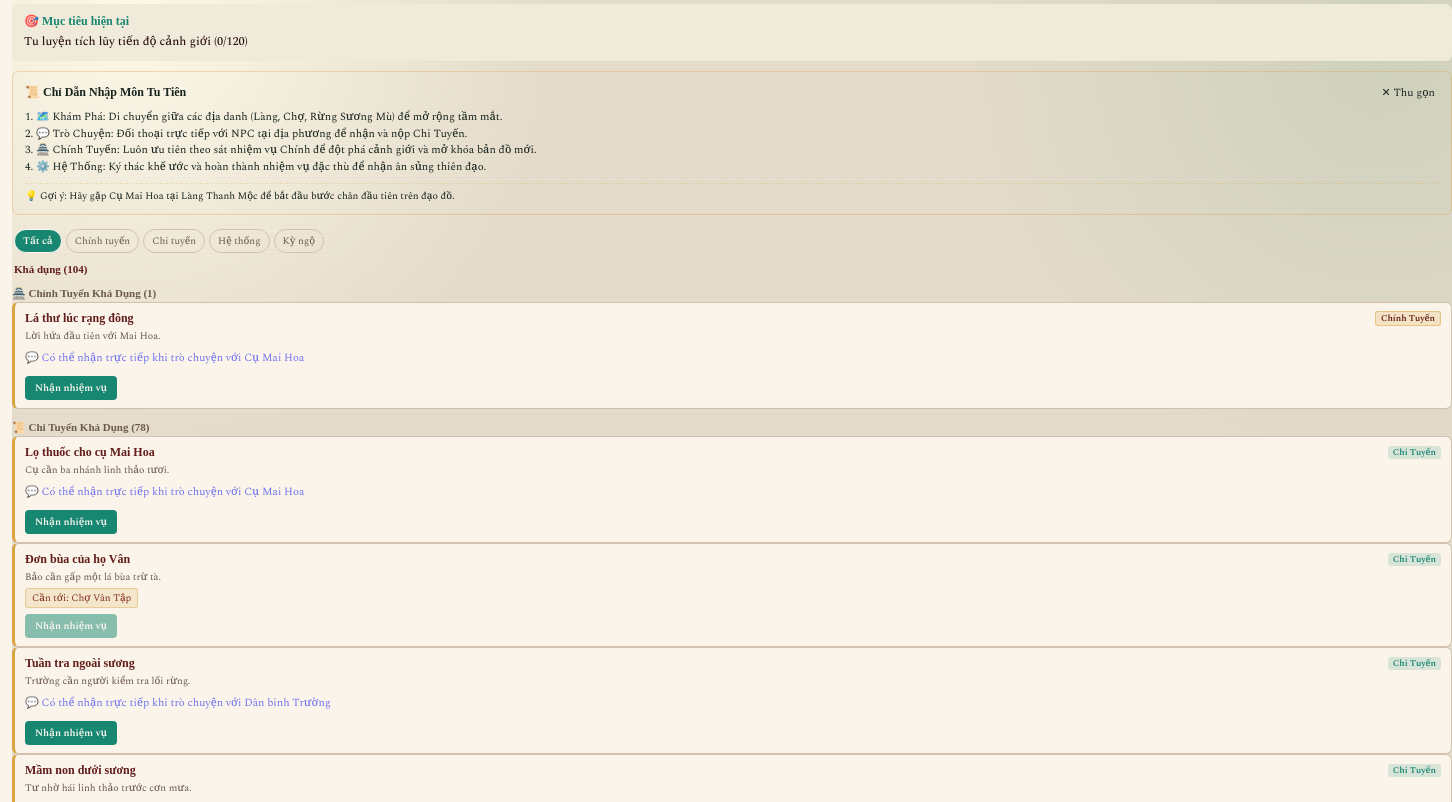
Quest Tab - Onboarding Guide & Categorization (Second Brain MDA & Schell) › filters quests when selecting category filter chips
Click the button "Chi tuyến". click: (174, 241)
box: [143,229,205,253]
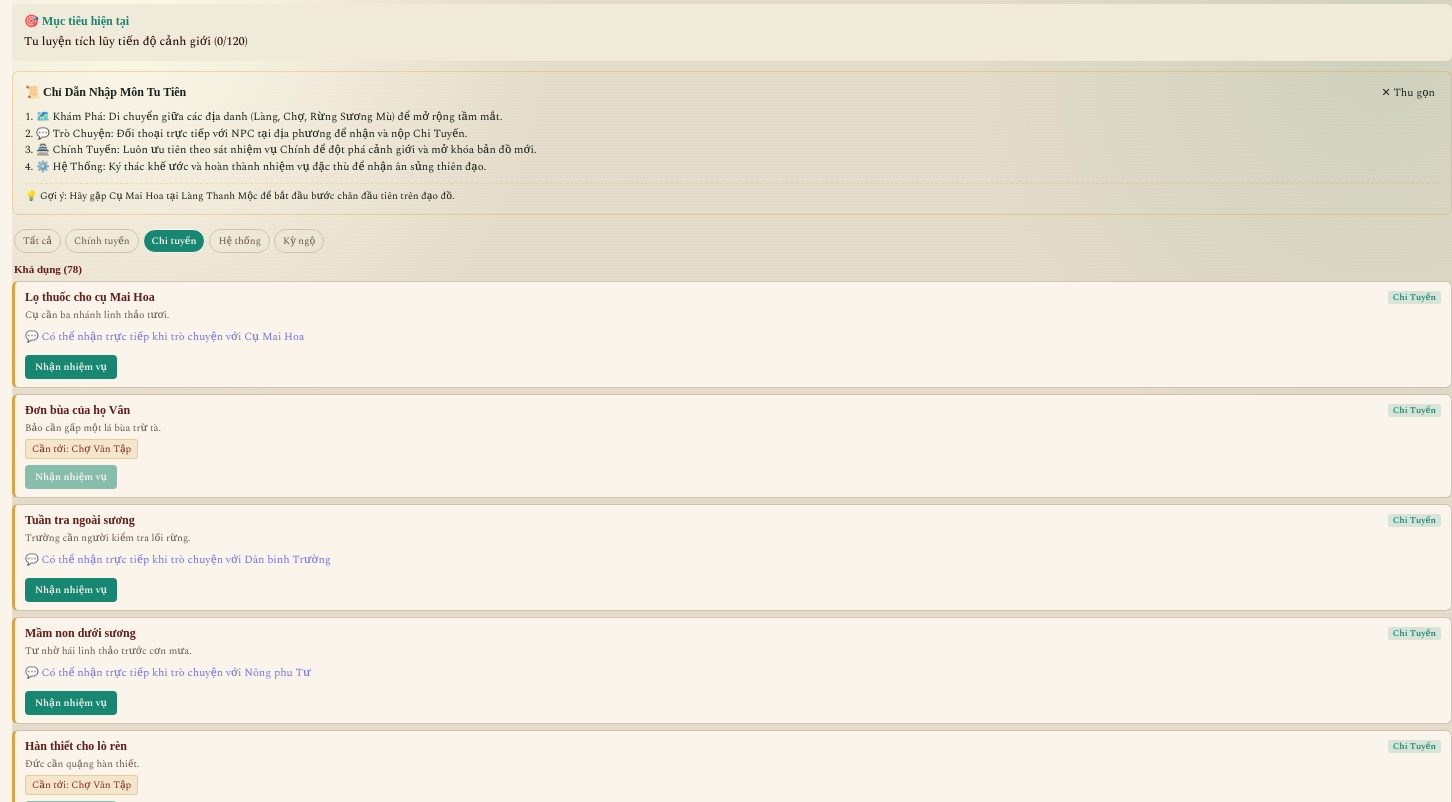
Check: the text "🏯 Chính Tuyến Khả Dụng" is gone
Check: the text "Lọ thuốc cho cụ Mai Hoa" is shown, box [25,290,155,304]
